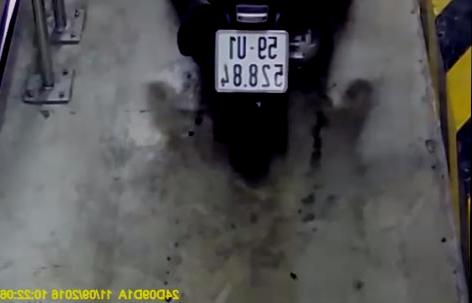License_Plate: (203, 24, 295, 99)
